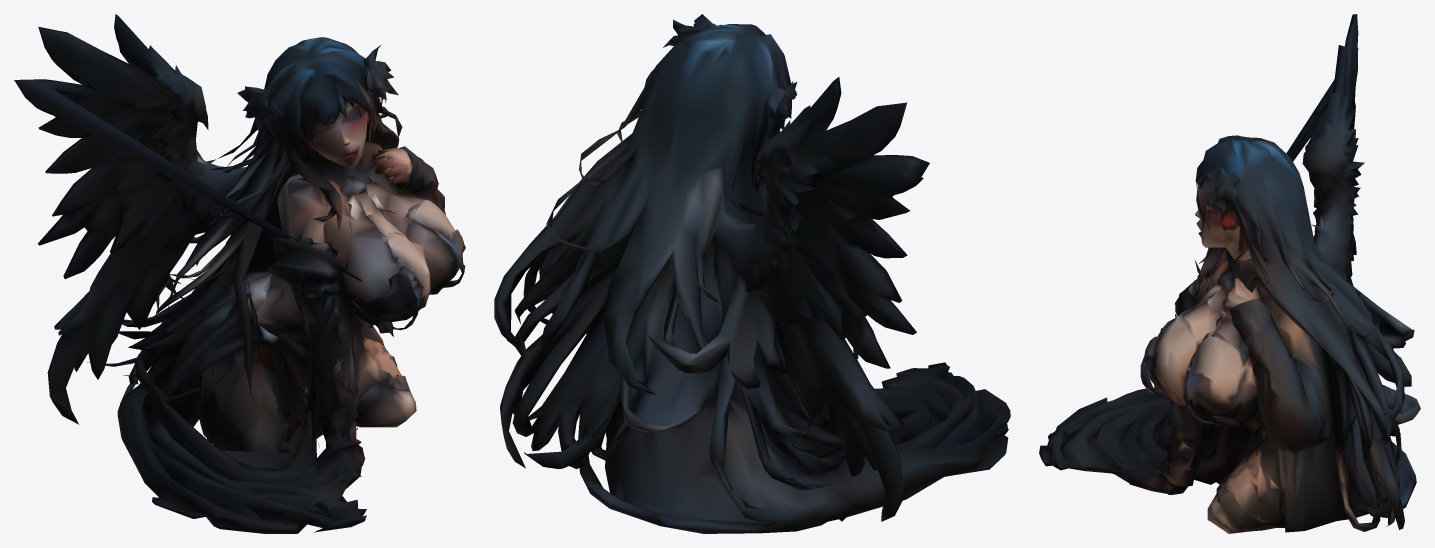
File: 01a19d9e-51b2-7c94-aca6-5113cd746a23.glb
3 views of the same model, side by side, from view 1: azimuth 30°, elevation 25°; view 2: azimuth 150°, elevation 25°; view 3: azimuth 270°, elevation 25° (orthographic). The views are drawn at different scales.
Parts seen in each view (by area): view 1: model; view 2: model; view 3: model.
Part boxes in pixels (x1,y1,x2,y2): model: (14,14,465,533); model: (494,14,1010,533); model: (1039,14,1420,533).
Bounding box in the file's own units: 1.87 × 1.9 × 1.71.
